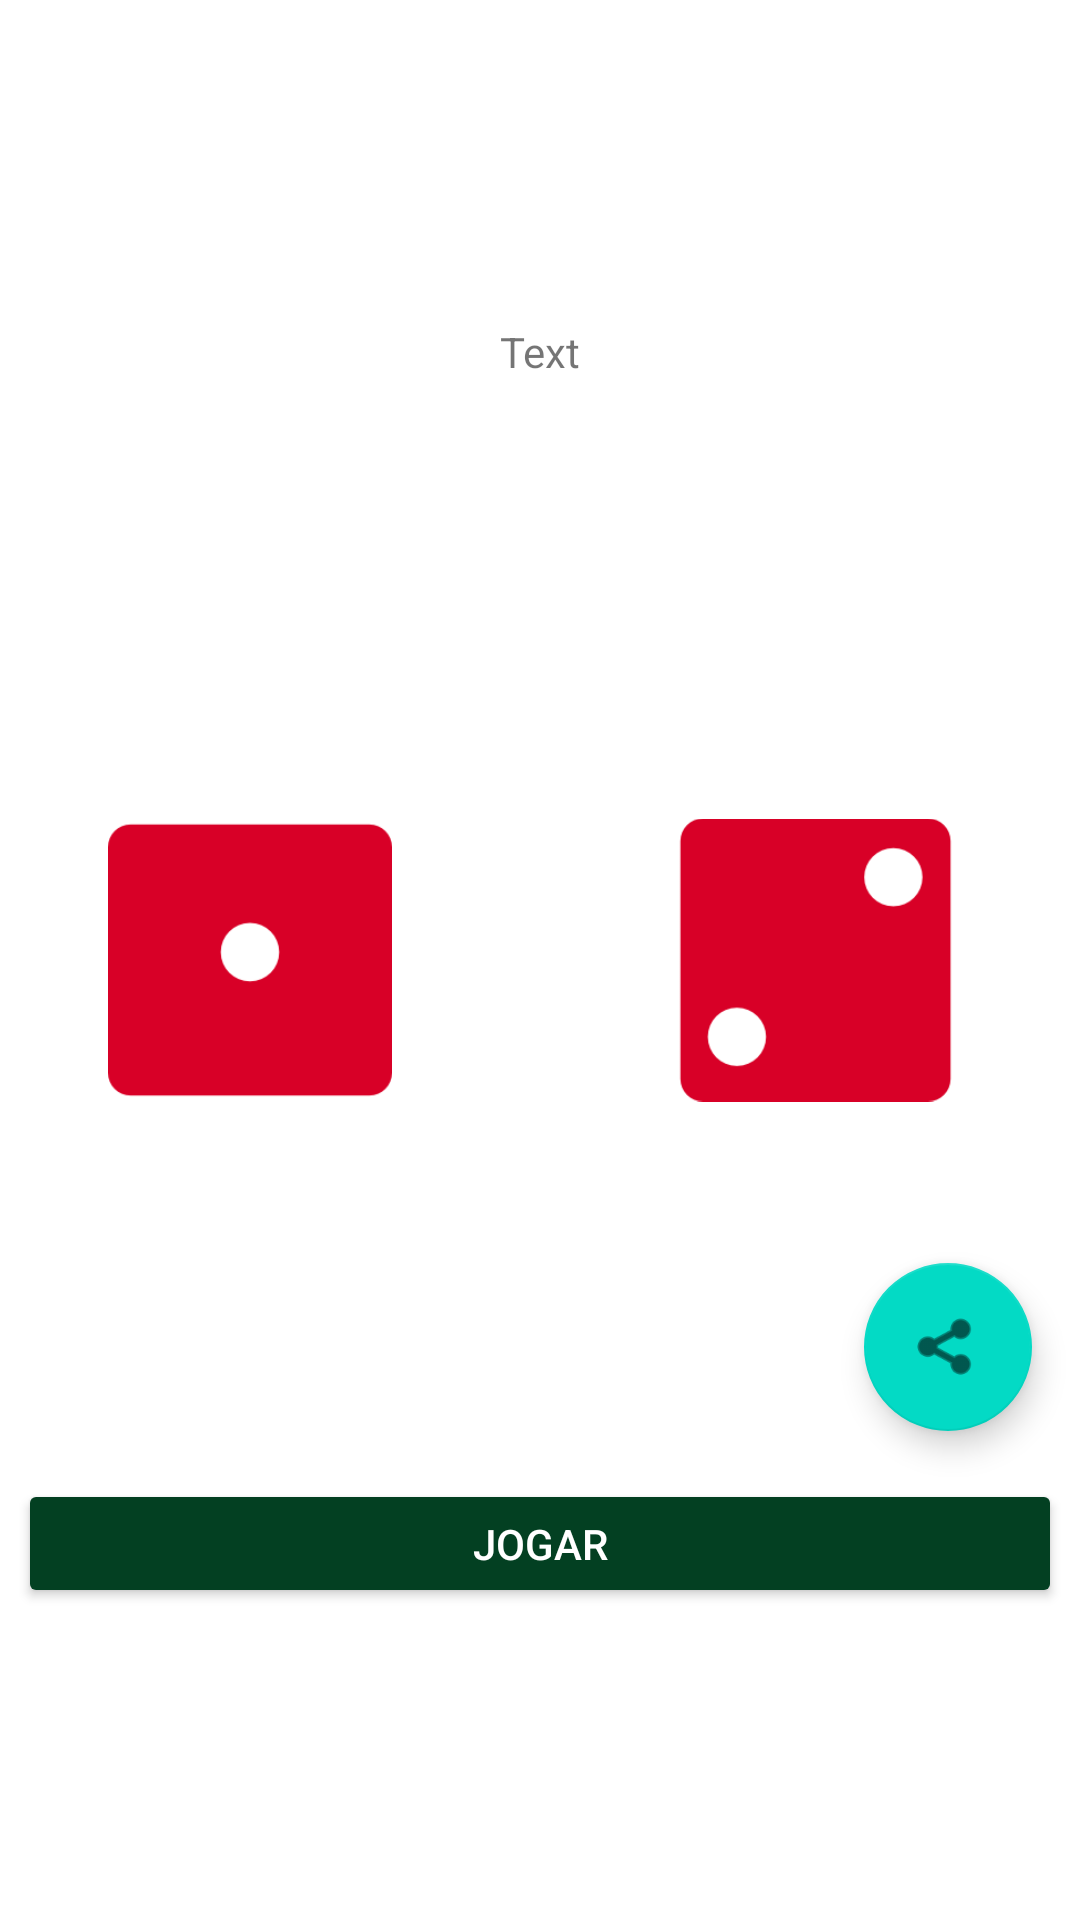

Screen size 1080w x 1920h. Icon name, then its box in pixels as {"left": x1, "top": y1, "right": x2, "bottom": y2}:
dice: {"left": 680, "top": 819, "right": 951, "bottom": 1102}, {"left": 108, "top": 824, "right": 392, "bottom": 1096}
share: {"left": 864, "top": 1263, "right": 1032, "bottom": 1431}
